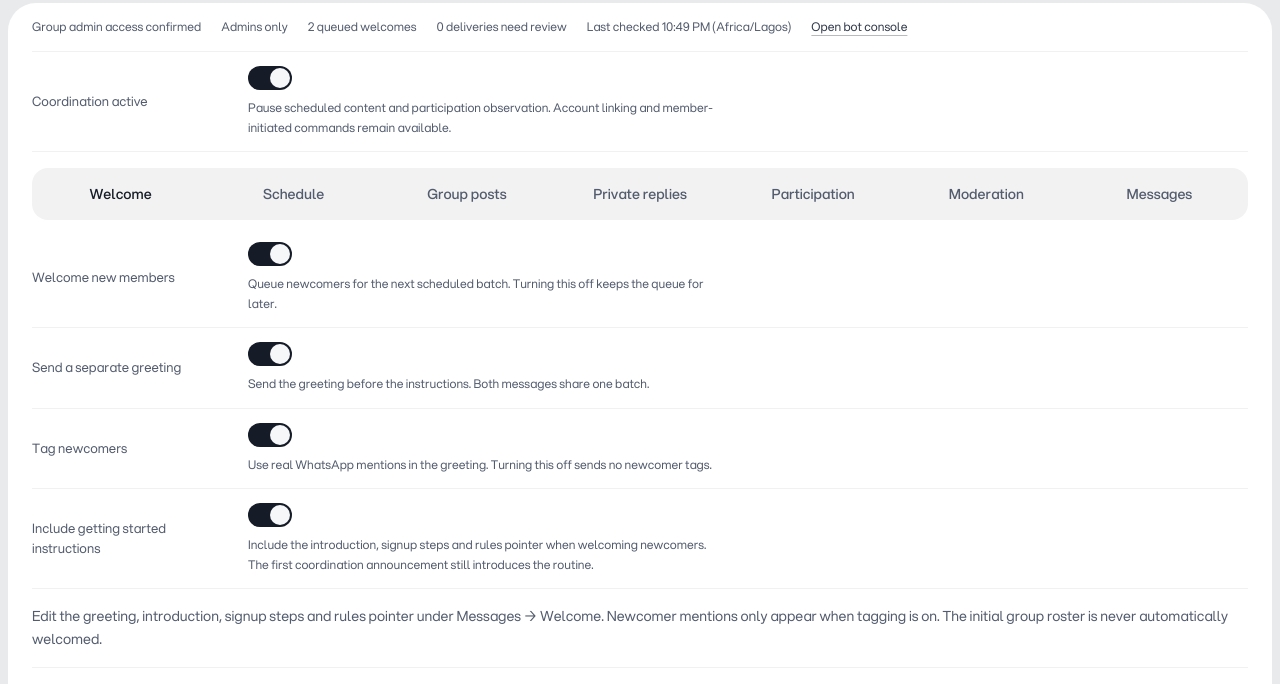
shows detailed controls, saves the tagging choice and retains a failed message draft for retry
This screenshot has width=1280, height=684.
Step 1. Click the switch named "Tag newcomers" next to "Tag newcomers" → (270, 434), box left=248, top=422, right=292, bottom=446
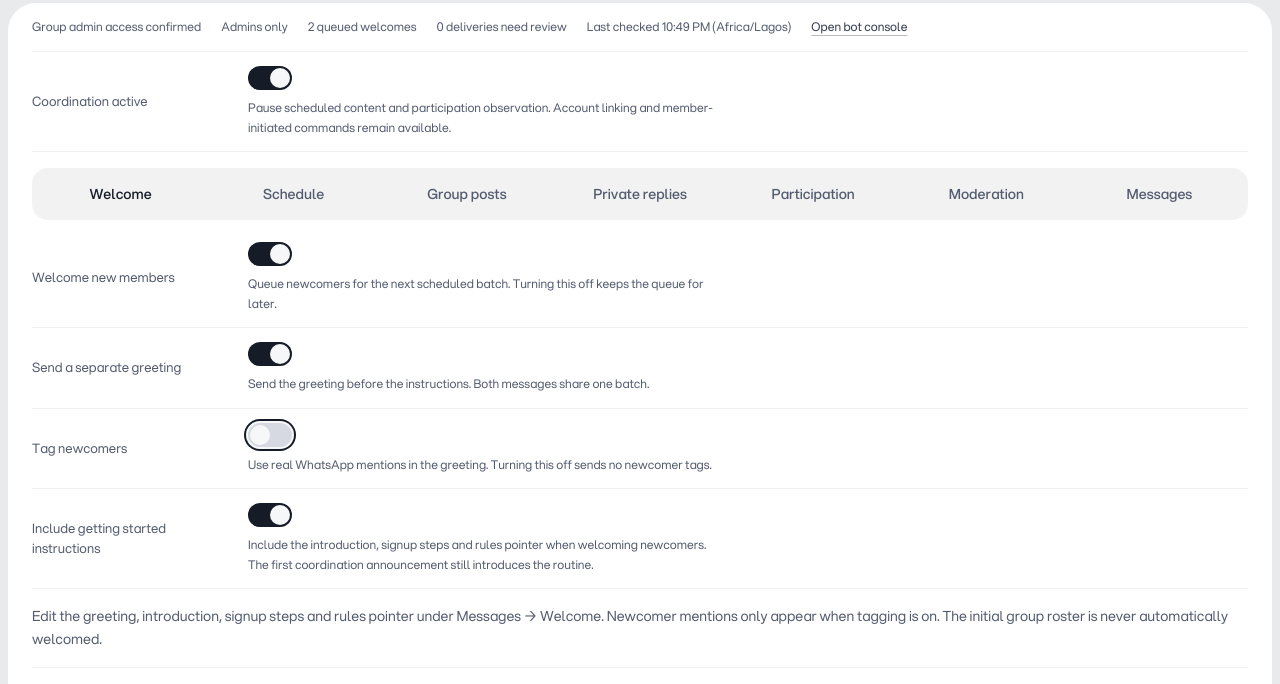
Step 2. Click the tab "Messages" → (1159, 194), box left=1075, top=172, right=1244, bottom=216
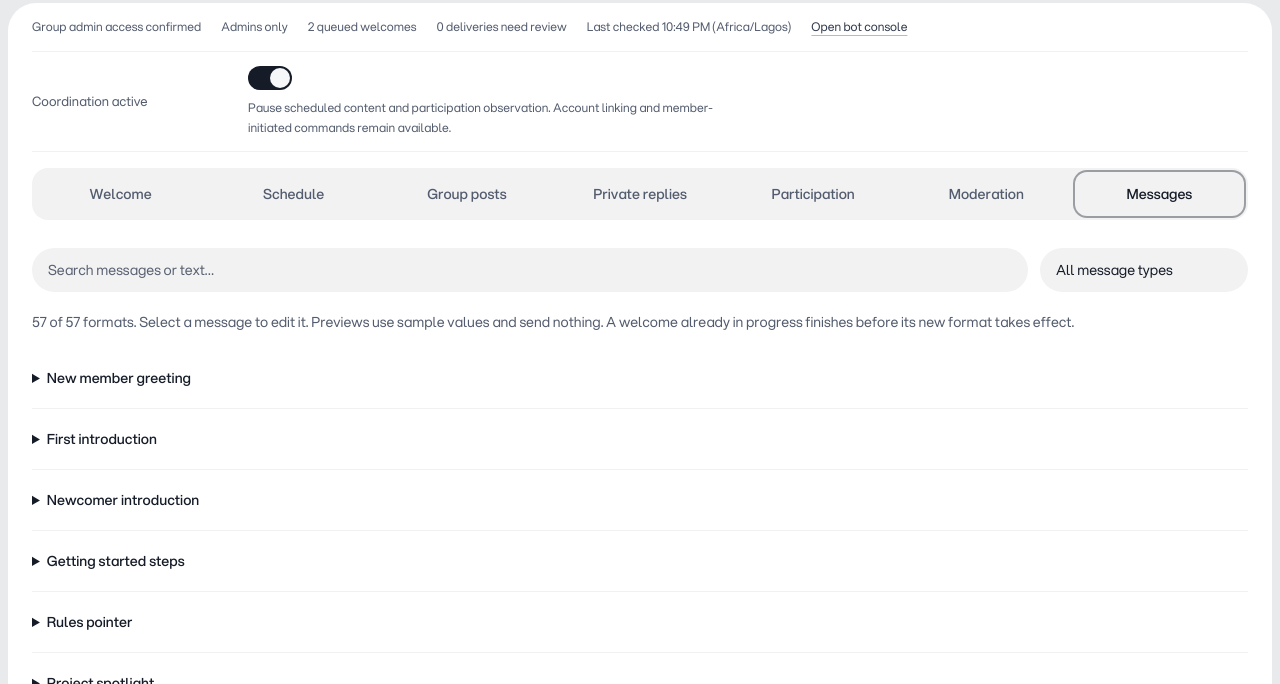
Step 3. Click the heading "New member greeting" → (119, 378), box left=47, top=368, right=191, bottom=388
(page scrolled)
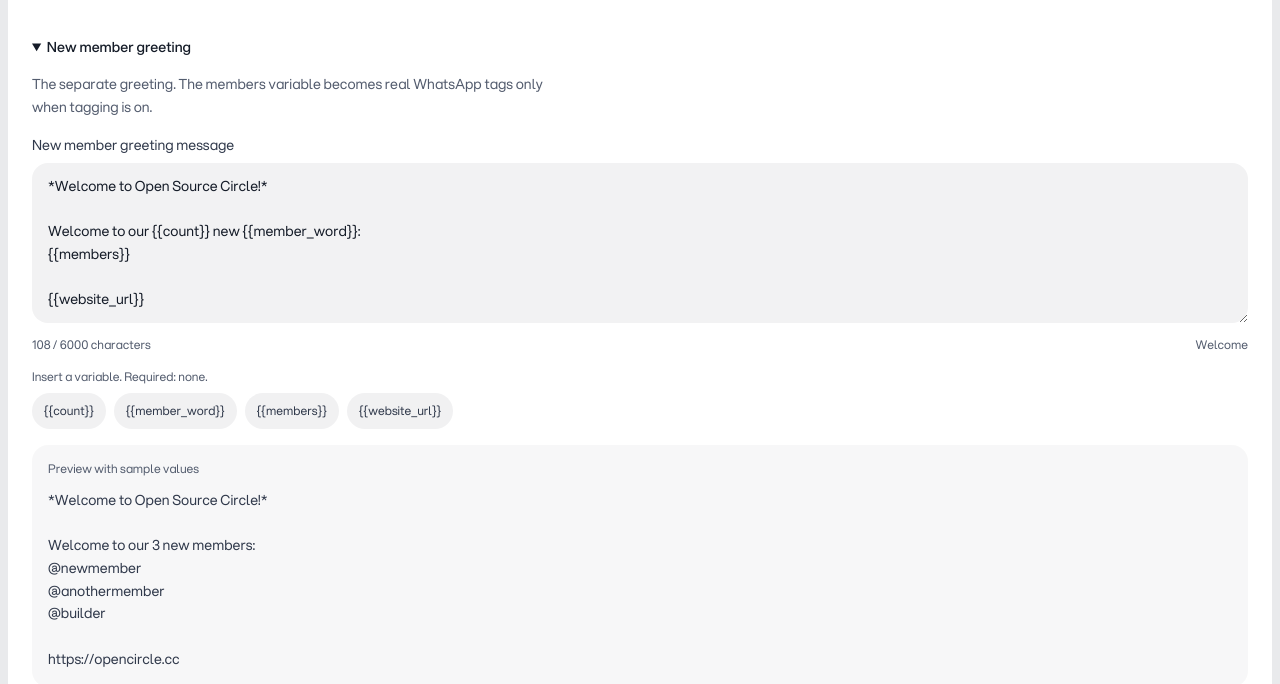
Step 4. Replace the text in the text box labelled "New member greeting message" with "Welcome builders!" → (640, 242), box left=32, top=162, right=1248, bottom=322
(page scrolled)
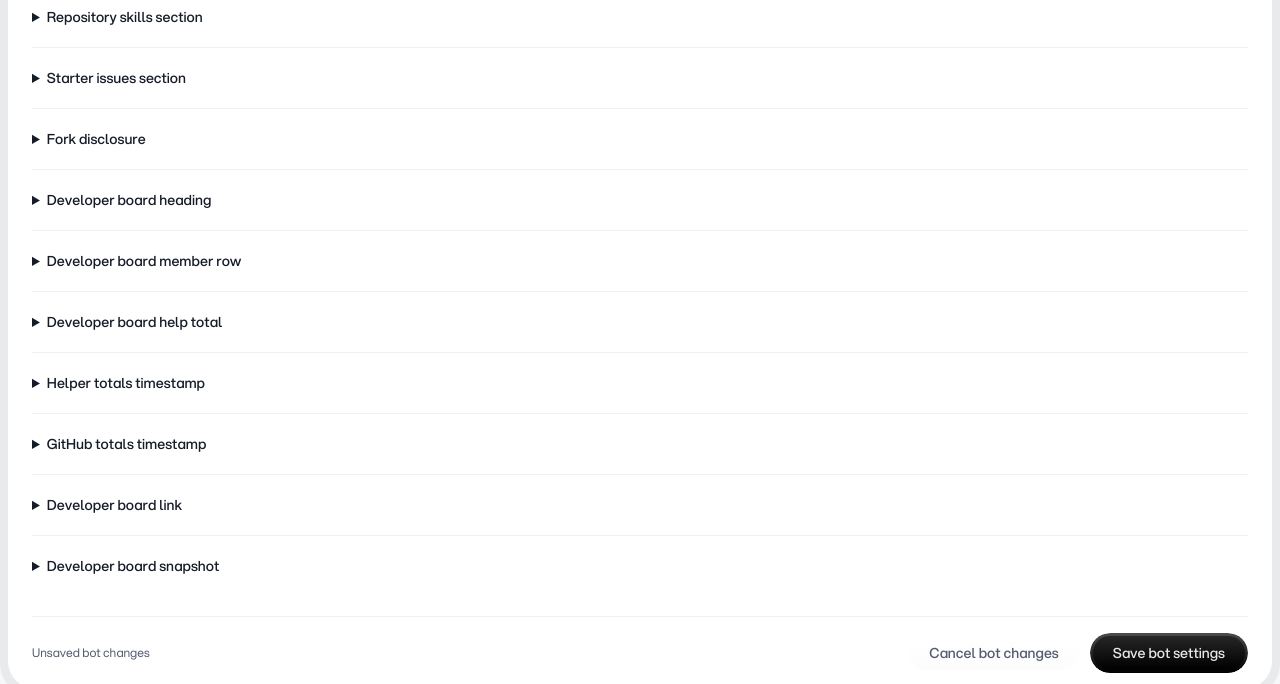
Step 5. Click the button "Save bot settings" → (1169, 653), box left=1090, top=633, right=1248, bottom=673
(page scrolled)
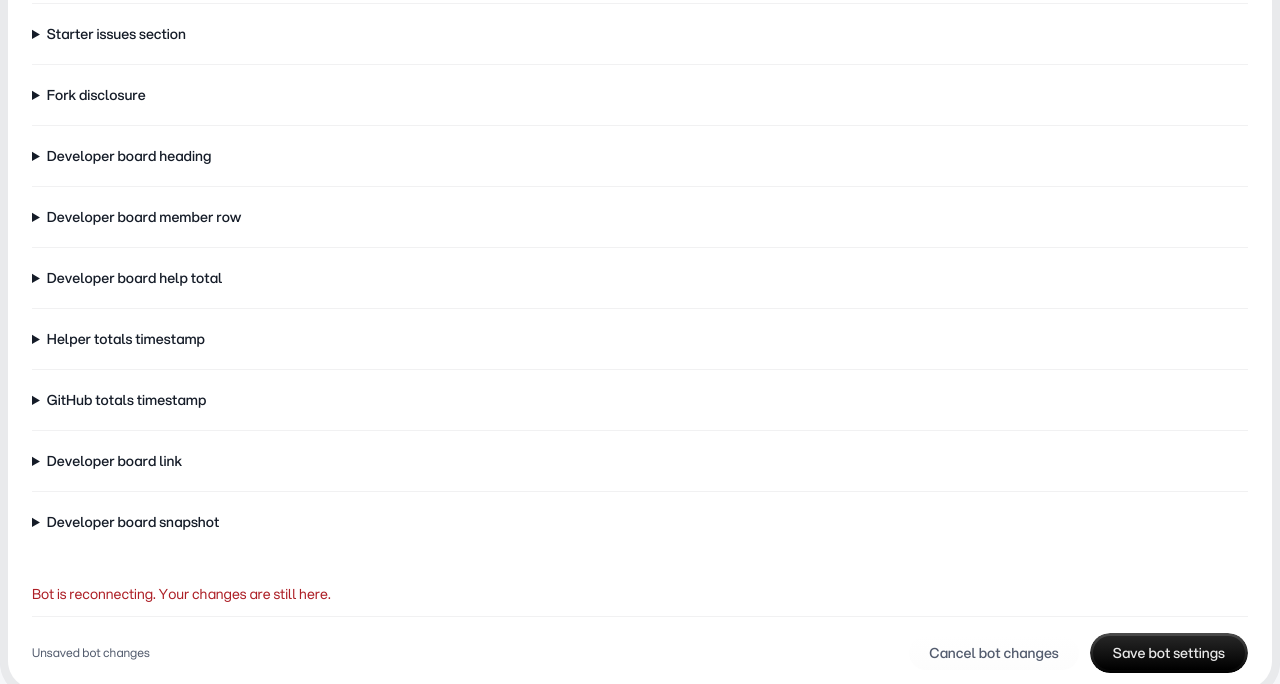
Check: the message shows "Your changes are still here", box left=156, top=584, right=331, bottom=604
Step 6. Click the button "Save bot settings" → (1169, 653), box left=1090, top=633, right=1248, bottom=673
(page scrolled)
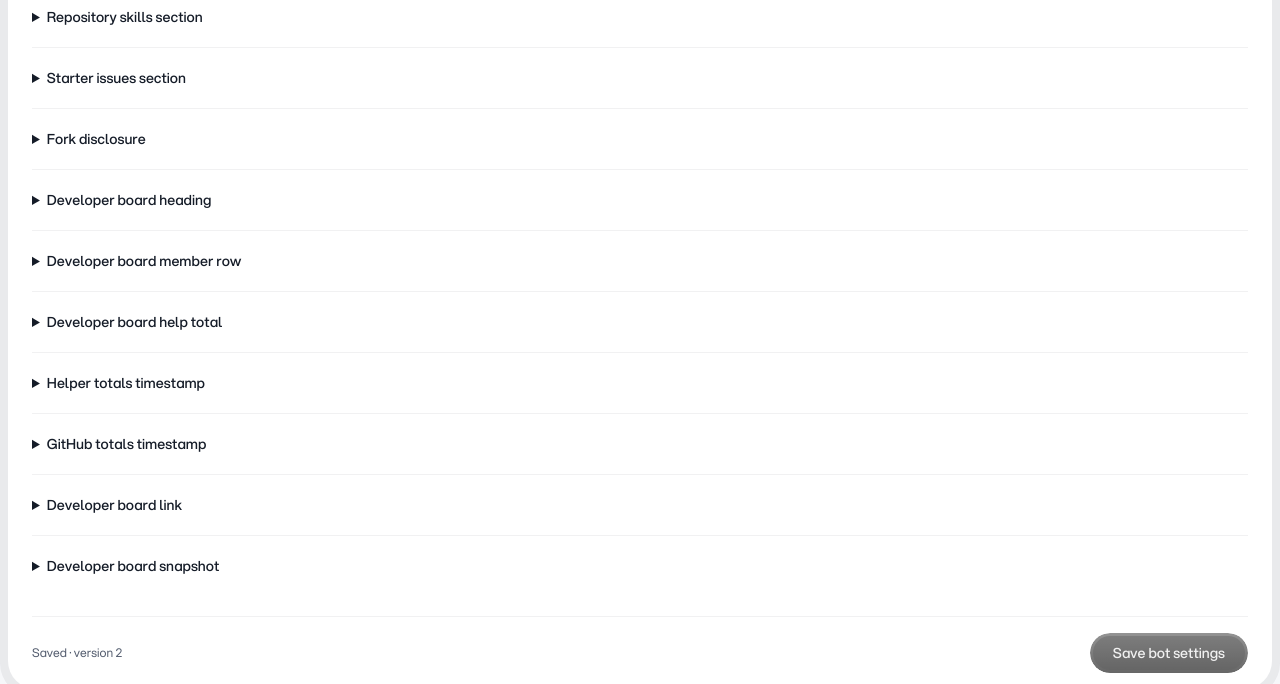
Check: the text "Saved · version 2" is shown, box left=32, top=645, right=122, bottom=661
Check: the button "Cancel bot changes" is gone
